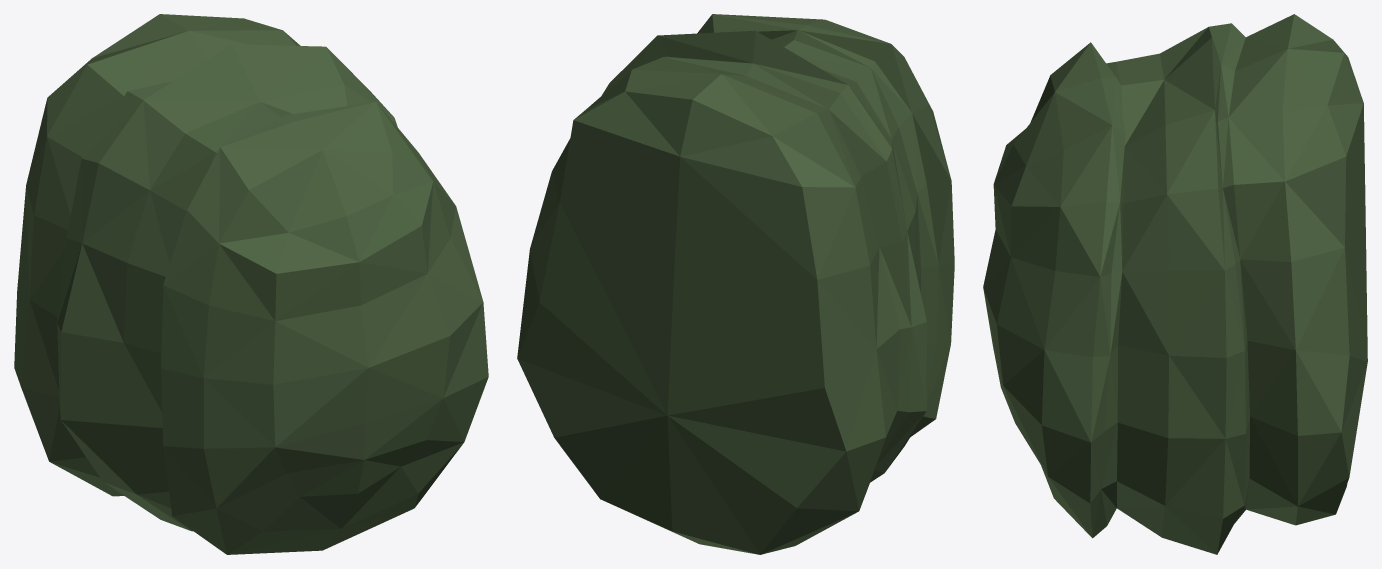
Rendered from shrub-round-1.obj.
3 renders of one model, left to right at view 1: azimuth 30°, elevation 25°; view 2: azimuth 150°, elevation 25°; view 3: azimuth 270°, elevation 25°, orthographic. The views are drawn at different scales.
Visible parts, largest first — view 1: shrub-round-1; view 2: shrub-round-1; view 3: shrub-round-1.
Boxes of the visible parts, <box> form: shrub-round-1: <box>14,14,488,554</box>; shrub-round-1: <box>517,14,954,554</box>; shrub-round-1: <box>983,14,1367,554</box>.
Size of the model in its own units: 51.35 by 65.33 by 48.
